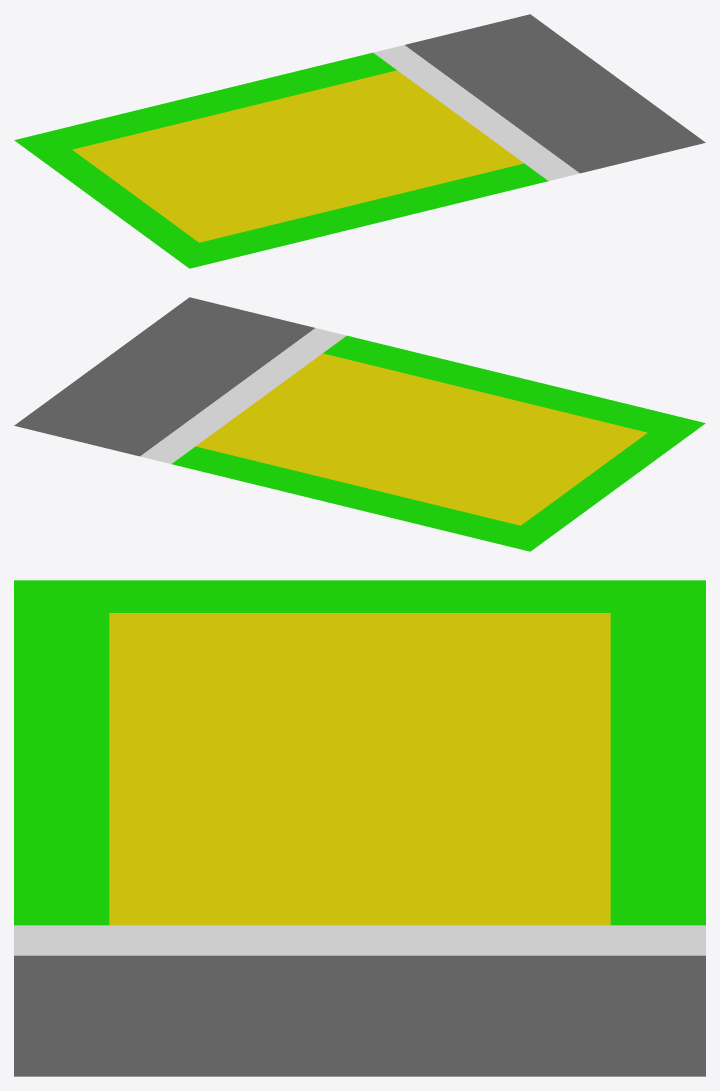
File: houseTest.fbx
3 views of the same model, one above another, from view 1: azimuth 30°, elevation 25°; view 2: azimuth 150°, elevation 25°; view 3: azimuth 270°, elevation 25° (orthographic). The views are drawn at different scales.
Visible parts, largest first — view 1: Cube__2_; view 2: Cube__2_; view 3: Cube__2_.
Boxes of the visible parts, x1,y1,x2,y2 form: Cube__2_: [14, 14, 705, 268]; Cube__2_: [14, 297, 705, 551]; Cube__2_: [14, 580, 705, 1076].
Size of the model in its own units: 4923 by 2.16e-05 by 2900.
